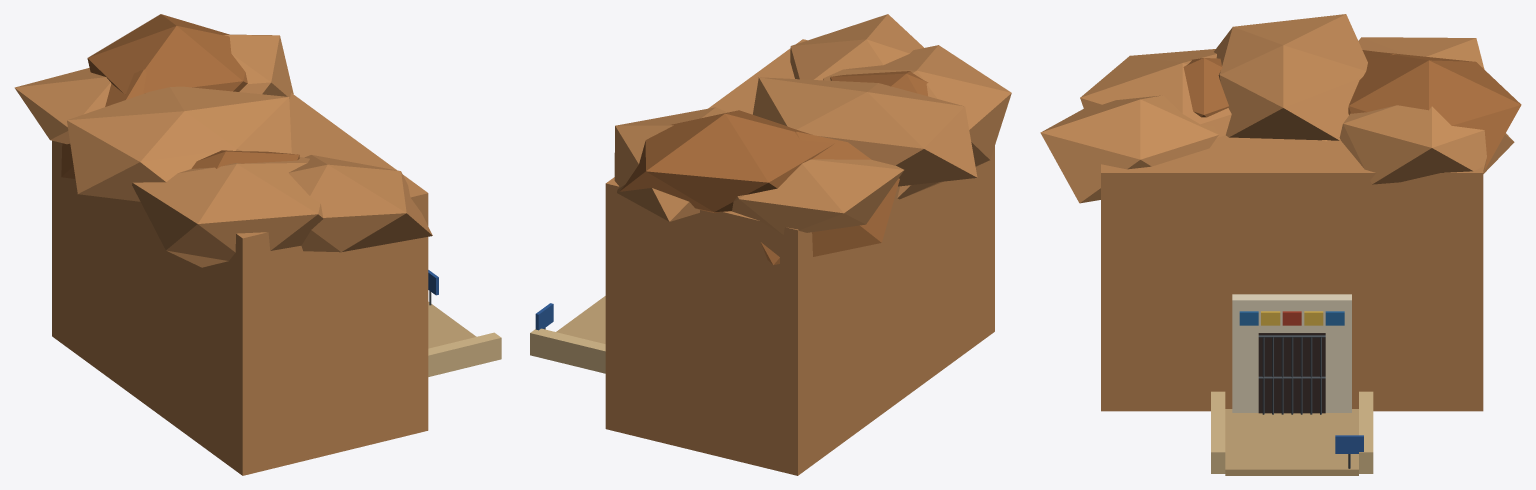
The model's file is gravport.glb.
3 views of the same model, side by side, from view 1: azimuth 30°, elevation 25°; view 2: azimuth 150°, elevation 25°; view 3: azimuth 270°, elevation 25° (orthographic). The views are drawn at different scales.
Parts seen in each view (by area): view 1: gravport; view 2: gravport; view 3: gravport.
Boxes of the visible parts, x1,y1,x2,y2 form: gravport: (14,14,501,475); gravport: (530,14,1011,475); gravport: (1040,14,1521,475).
Bounding box in the file's own units: 18.79 × 14.31 × 20.14.
